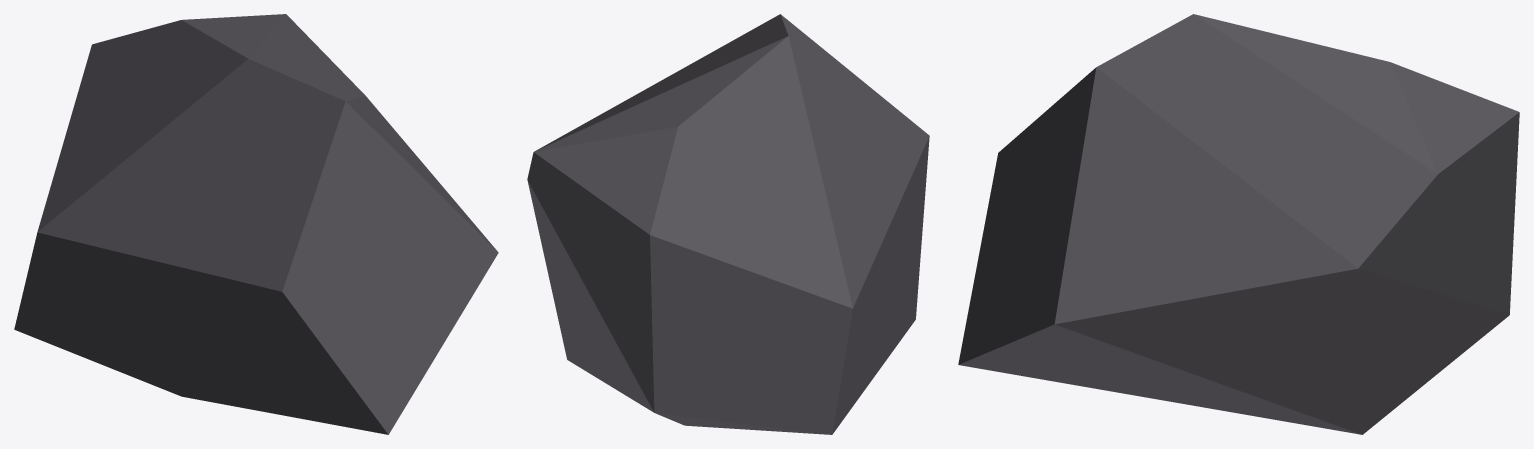
The model's file is Steel mass.fbx.
The picture shows the model from 3 angles, left to right: view 1: azimuth 30°, elevation 25°; view 2: azimuth 150°, elevation 25°; view 3: azimuth 270°, elevation 25°; orthographic projection. The views are drawn at different scales.
Visible parts, largest first — view 1: steel_mass; view 2: steel_mass; view 3: steel_mass.
Part boxes in pixels (x1,y1,x2,y2): steel_mass: (14,14,498,434); steel_mass: (527,14,929,434); steel_mass: (958,14,1519,434).
Bounding box in the file's own units: 1.23 × 1.22 × 1.64.
